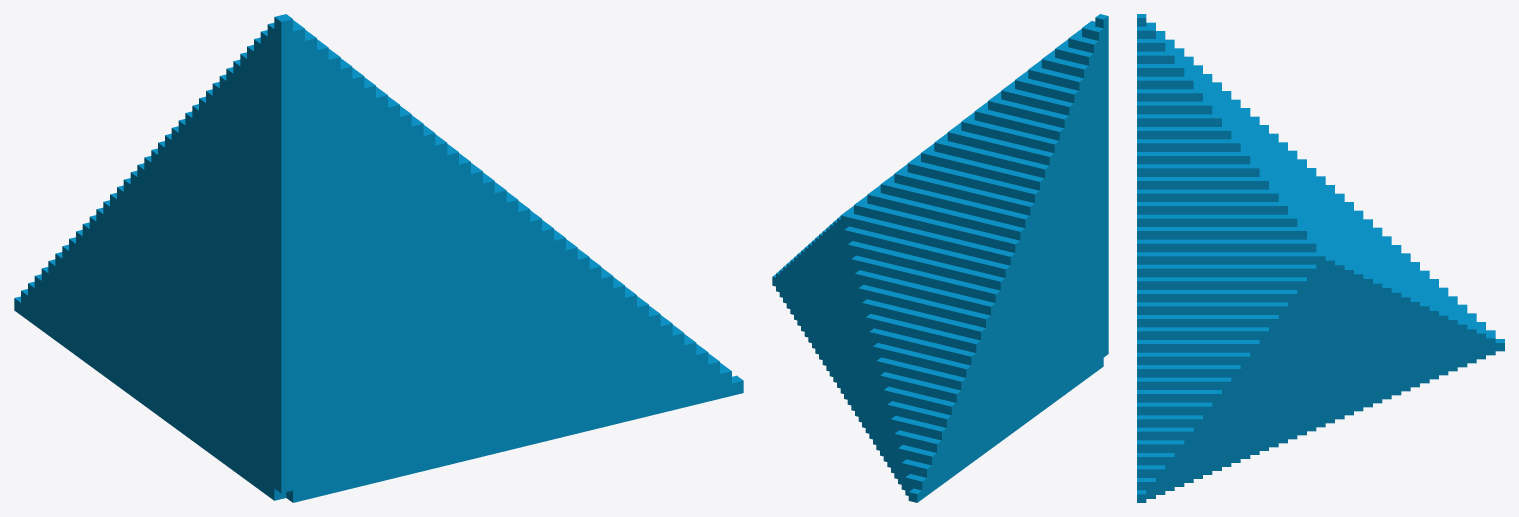
Rendered from crystal-3.obj.
The picture shows the model from 3 angles, left to right: view 1: azimuth 30°, elevation 25°; view 2: azimuth 150°, elevation 25°; view 3: azimuth 270°, elevation 25°; orthographic projection. The views are drawn at different scales.
Size of the model in its own units: 3.9 by 3.9 by 3.9.
1 material, 1 textured.
